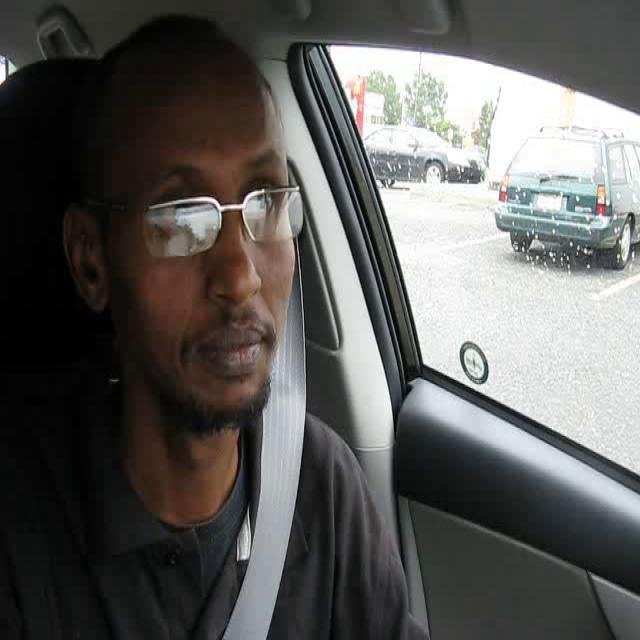close: (193, 316, 268, 379)
